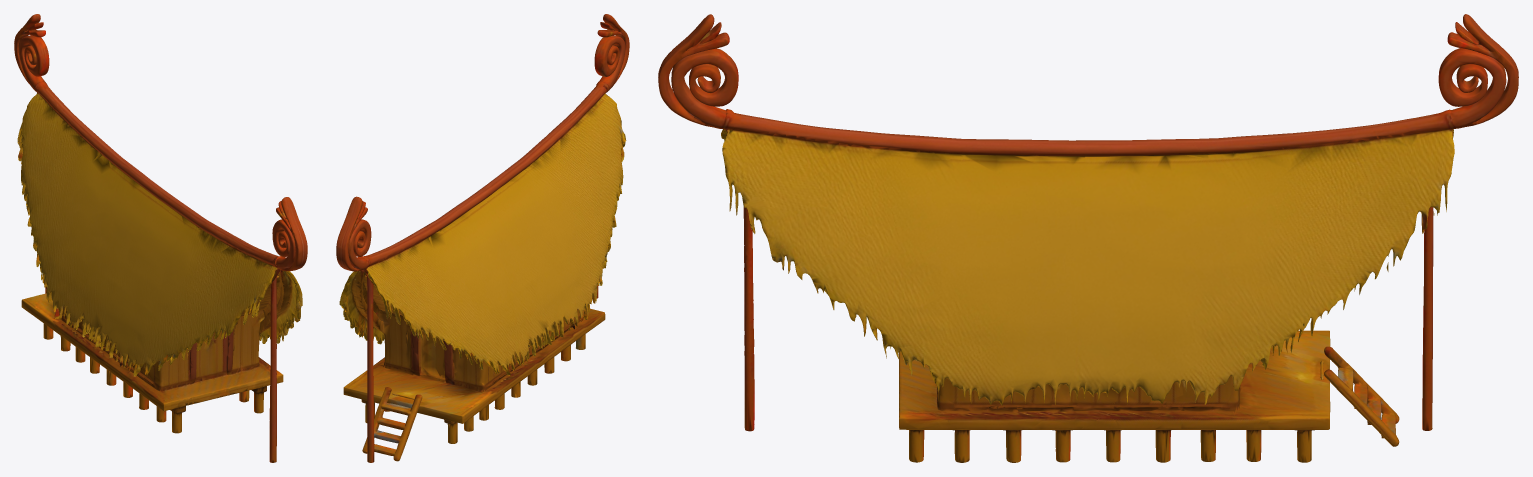
File: vanlang12.glb
3 views of the same model, side by side, from view 1: azimuth 30°, elevation 25°; view 2: azimuth 150°, elevation 25°; view 3: azimuth 270°, elevation 25° (orthographic). The views are drawn at different scales.
Visible parts, largest first — view 1: tripo_node_5463c6cb-2587-4168-a0f3-b5ec0b44348c; view 2: tripo_node_5463c6cb-2587-4168-a0f3-b5ec0b44348c; view 3: tripo_node_5463c6cb-2587-4168-a0f3-b5ec0b44348c.
Boxes of the visible parts, <box> form: tripo_node_5463c6cb-2587-4168-a0f3-b5ec0b44348c: <box>14,14,307,462</box>; tripo_node_5463c6cb-2587-4168-a0f3-b5ec0b44348c: <box>336,14,629,462</box>; tripo_node_5463c6cb-2587-4168-a0f3-b5ec0b44348c: <box>658,14,1518,462</box>.
Size of the model in its own units: 0.2714 by 0.5374 by 0.9999.
1 material, 1 textured.
